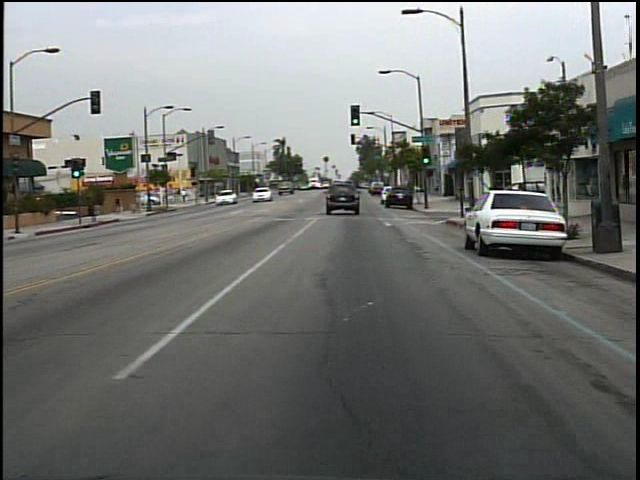person: (485, 176, 507, 224), (112, 191, 132, 220), (181, 186, 190, 205)
